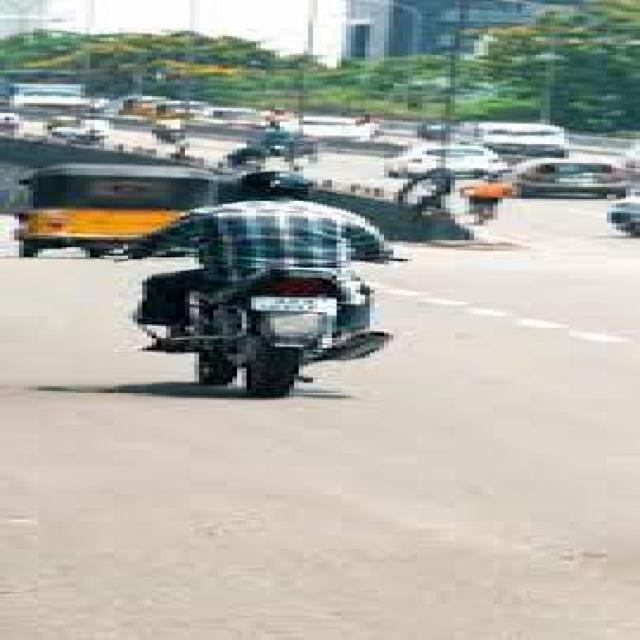Numberplate: (242, 298, 364, 312)
bike: (88, 239, 571, 407)
helmet: (234, 163, 332, 197)
